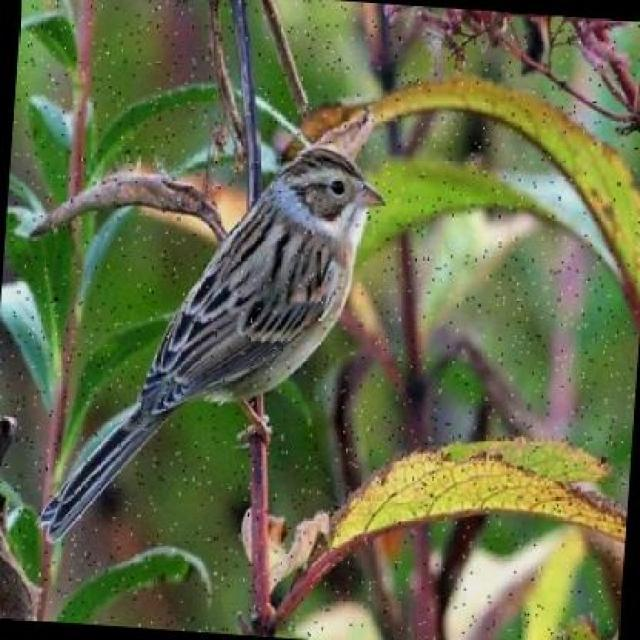Bird: (34, 140, 391, 544)
